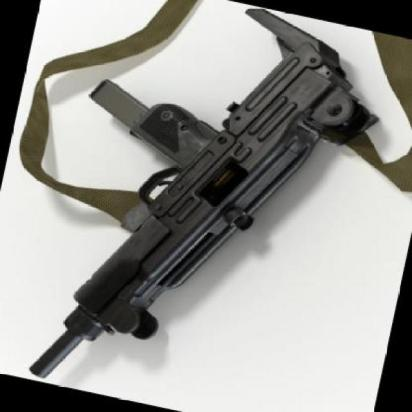Gun: (28, 8, 378, 378)
